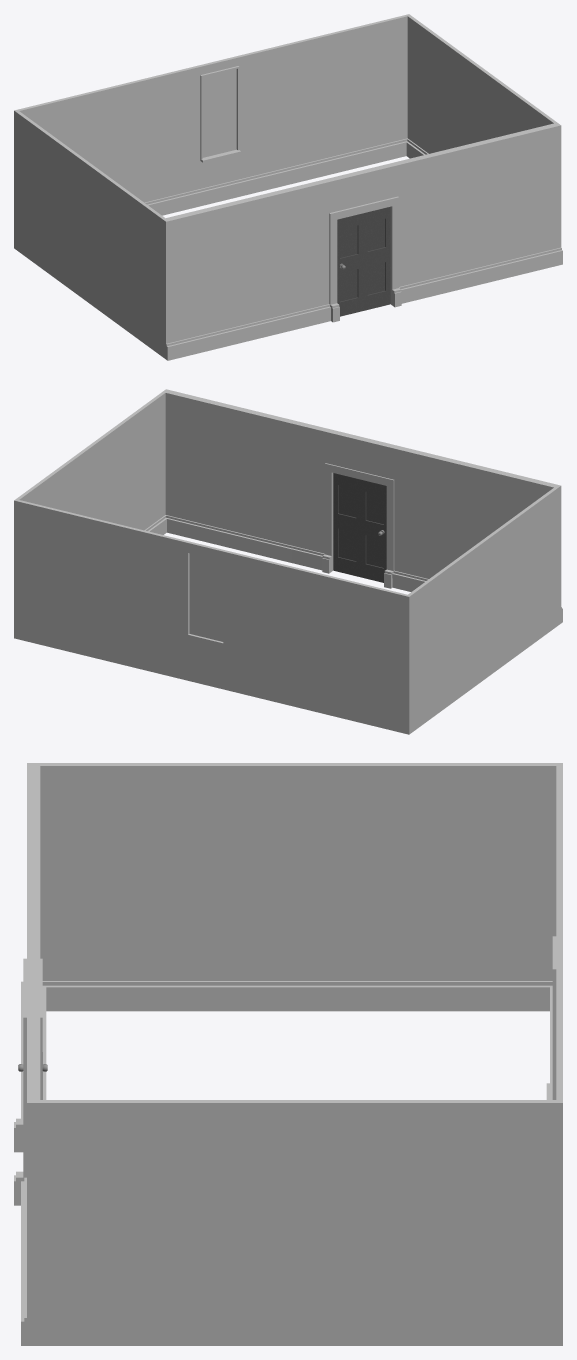
The model's file is GuestRoom.fbx.
The picture shows the model from 3 angles, top to bottom: view 1: azimuth 30°, elevation 25°; view 2: azimuth 150°, elevation 25°; view 3: azimuth 270°, elevation 25°; orthographic projection. The views are drawn at different scales.
Visible parts, largest first — view 1: WallRight8 (×6), pasted__WallRight3, LowPloyGuestDoorwayWall3, WallRight7 (×2), Door1, Window1; view 2: WallRight8 (×4), WallRight7 (×4), pasted__WallRight3, LowPloyGuestDoorwayWall3, Door1, Window1; view 3: WallRight8 (×6), WallRight7 (×4), LowPloyGuestDoorwayWall3, pasted__WallRight3.
Boxes of the visible parts, <box> form: WallRight8 (×6): <box>14,14,562,360</box>; pasted__WallRight3: <box>149,46,284,215</box>; LowPloyGuestDoorwayWall3: <box>294,154,431,328</box>; WallRight7 (×2): <box>406,14,561,247</box>; Door1: <box>337,206,390,316</box>; Window1: <box>202,69,236,157</box>; WallRight8 (×4): <box>14,485,561,734</box>; WallRight7 (×4): <box>14,389,555,638</box>; pasted__WallRight3: <box>145,531,275,701</box>; LowPloyGuestDoorwayWall3: <box>292,421,429,591</box>; Door1: <box>333,473,386,582</box>; Window1: <box>189,553,223,641</box>; WallRight8 (×6): <box>21,763,562,1345</box>; WallRight7 (×4): <box>27,763,562,1345</box>; LowPloyGuestDoorwayWall3: <box>14,876,46,1208</box>; pasted__WallRight3: <box>546,879,562,1099</box>.
Size of the model in its own units: 12 by 4 by 8.19.
